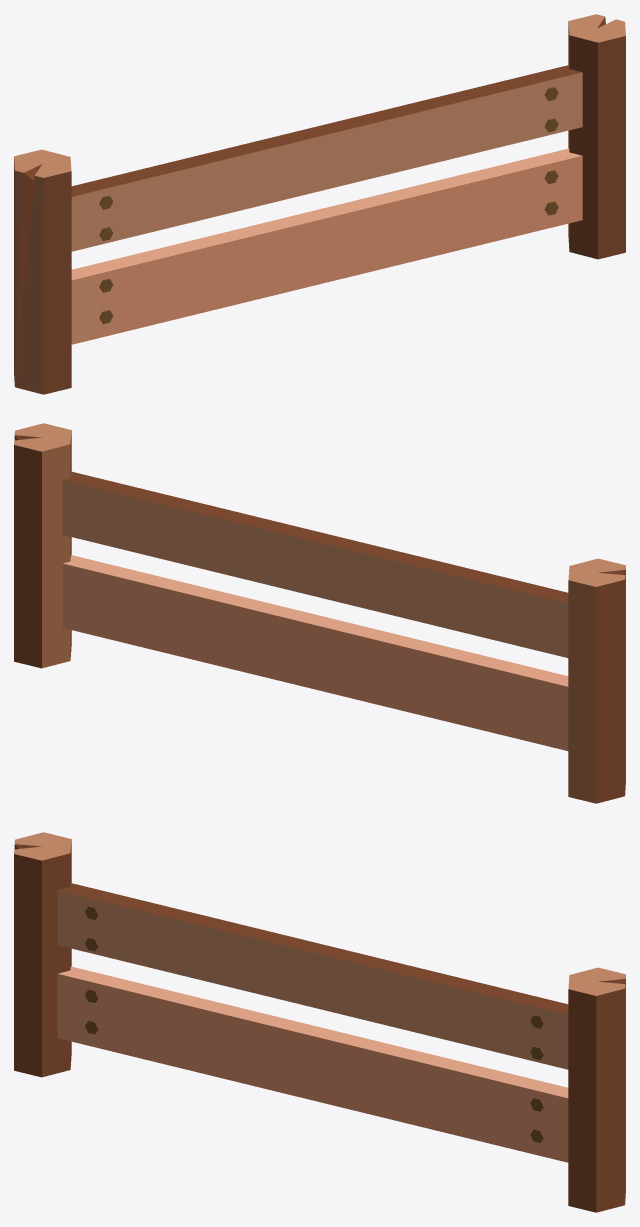
File: fence.fbx
The picture shows the model from 3 angles, top to bottom: view 1: azimuth 30°, elevation 25°; view 2: azimuth 150°, elevation 25°; view 3: azimuth 330°, elevation 25°; orthographic projection.
Visible parts, largest first — view 1: fence; view 2: fence; view 3: fence.
Boxes of the visible parts, box(x1,y1,x2,y2) form: fence: box(14, 14, 625, 394); fence: box(14, 423, 625, 803); fence: box(14, 832, 625, 1212).
Size of the model in its own units: 546 by 185 by 46.01.
